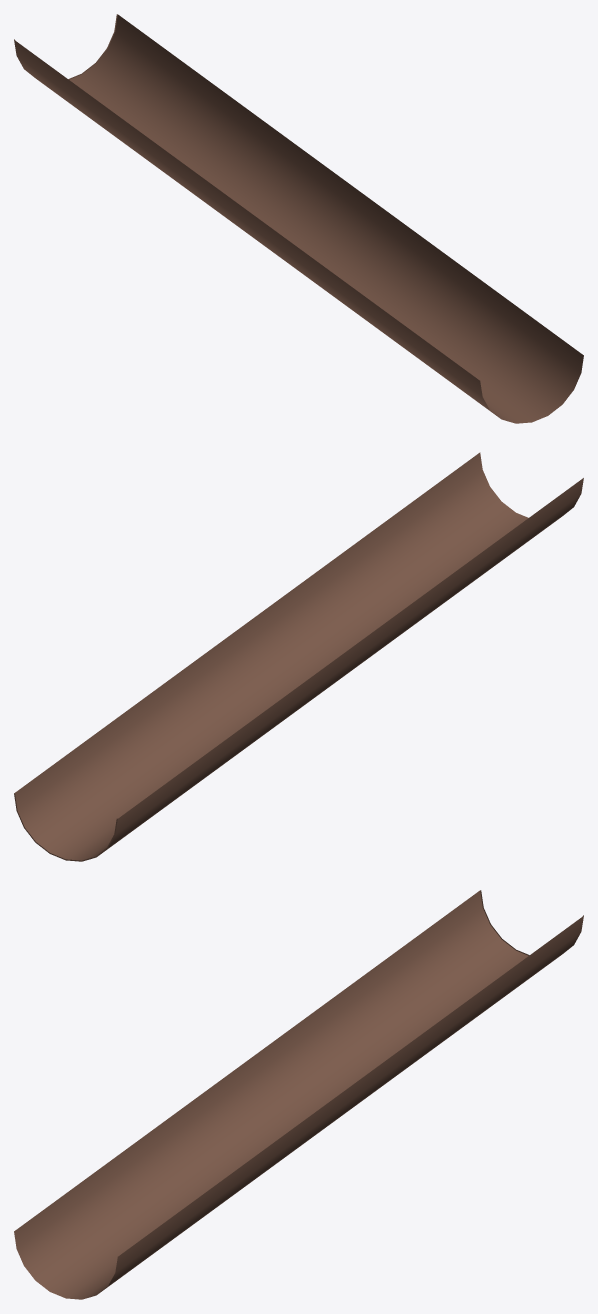
File: Horizontal_gutter_Pipes.fbx
The picture shows the model from 3 angles, top to bottom: view 1: azimuth 30°, elevation 25°; view 2: azimuth 150°, elevation 25°; view 3: azimuth 330°, elevation 25°; orthographic projection.
Parts seen in each view (by area): view 1: pCylinder12; view 2: pCylinder12; view 3: pCylinder12.
Part boxes in pixels (x1=…): pCylinder12: x1=14, y1=14, x2=583, y2=423; pCylinder12: x1=14, y1=452, x2=583, y2=861; pCylinder12: x1=14, y1=890, x2=583, y2=1299.
Bounding box in the file's own units: 0.166 × 0.083 × 1.29.
